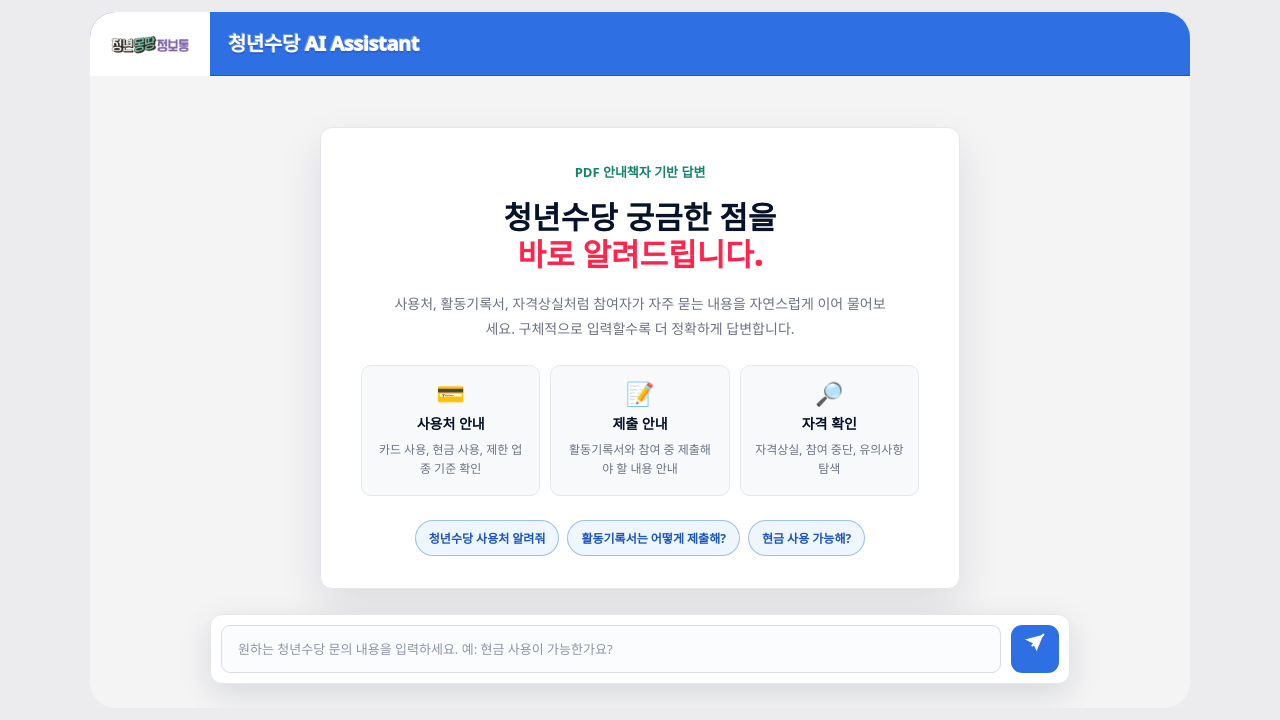
Test: renders streamed assistant tokens before final sources
The width and height of the screenshot is (1280, 720).
Type "사용처 알려줘" into the field named "청년수당 질문".
click(611, 649); type("사용처 알려줘")  # box [221,625,1001,673]
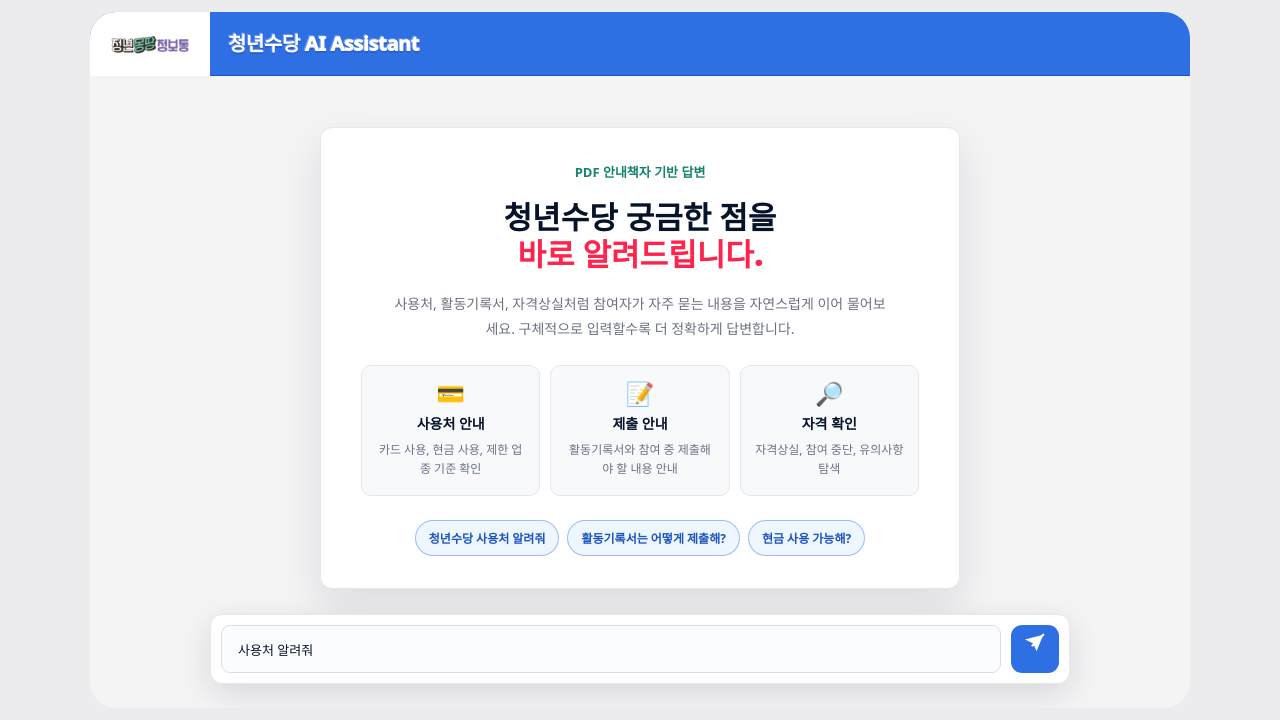
Click the button "보내기".
click(1035, 649)  # box [1011,625,1059,673]
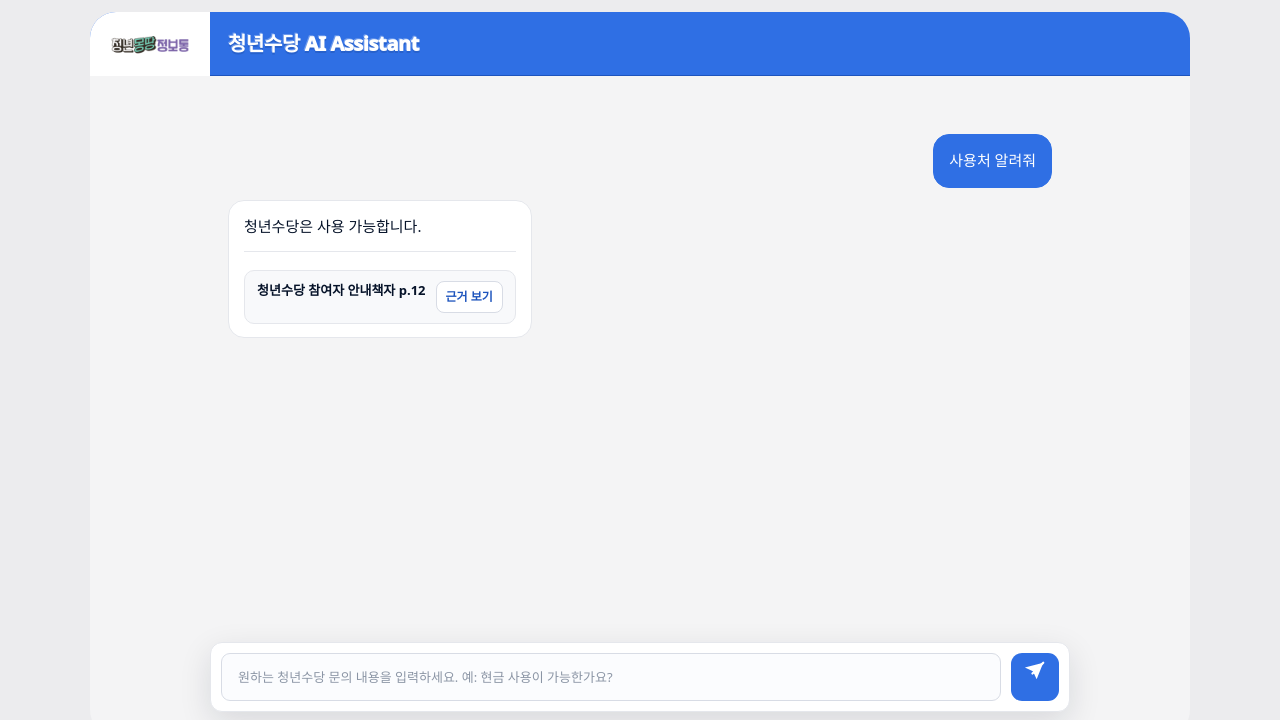
Result: the text "청년수당은 사용 가능합니다." is shown at [244,216,421,236]
Result: the text "청년수당 참여자 안내책자 p.12" is shown at [257,281,426,300]
